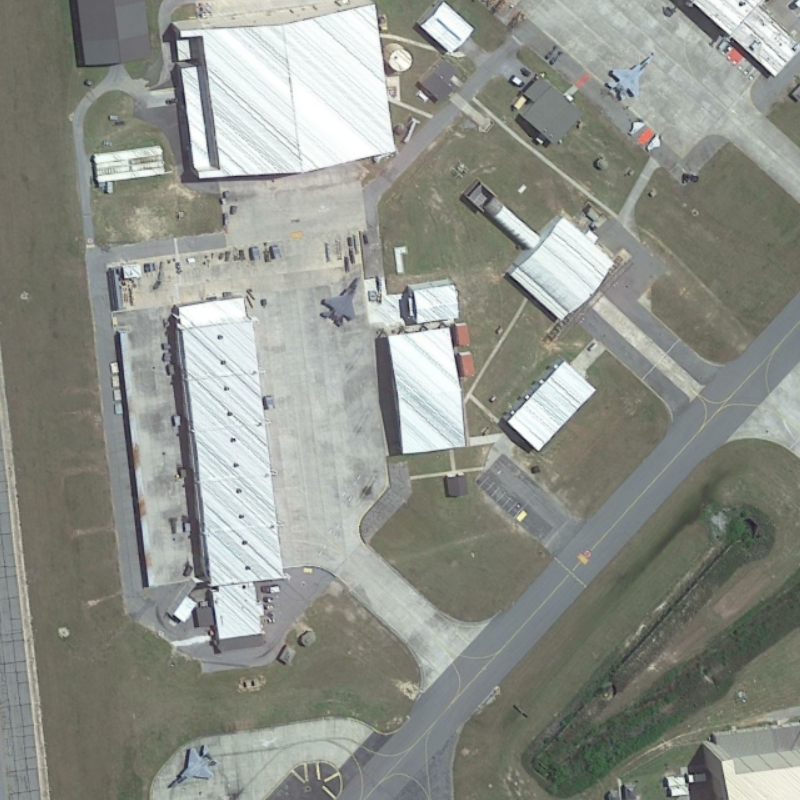A13: (600, 50, 661, 105), (163, 742, 218, 793), (314, 274, 362, 330)
